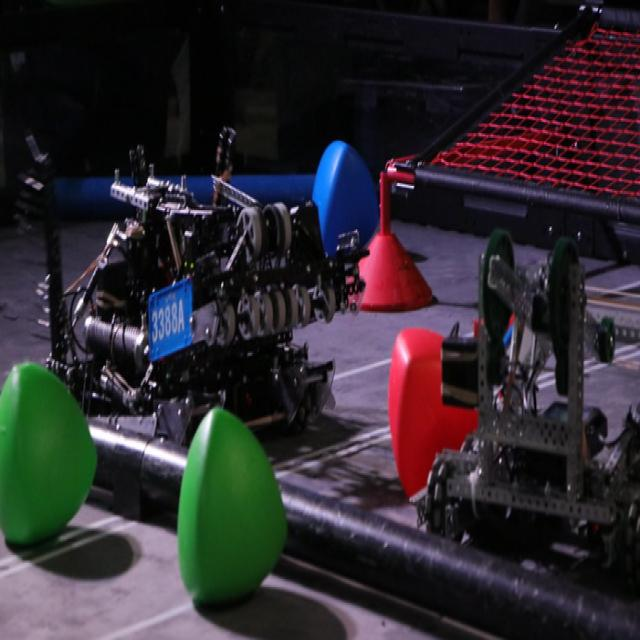License-Plates: (146, 273, 194, 362)
